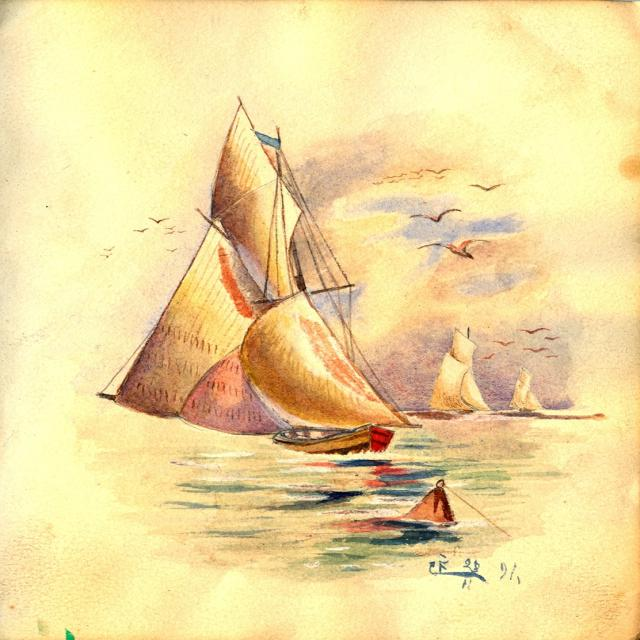Boat: (94, 140, 434, 476), (414, 322, 489, 422), (373, 476, 462, 531), (270, 427, 396, 458), (503, 371, 548, 414)
